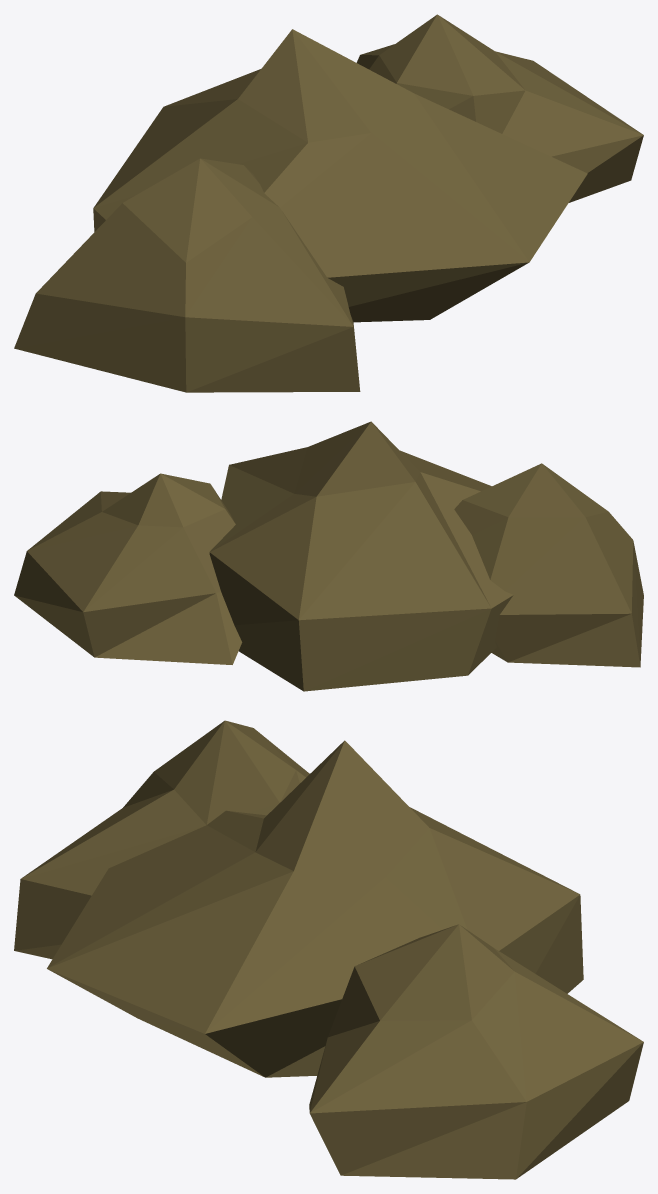
File: bramble_1.obj
3 renders of one model, top to bottom at view 1: azimuth 30°, elevation 25°; view 2: azimuth 150°, elevation 25°; view 3: azimuth 270°, elevation 25°, orthographic. The views are drawn at different scales.
Parts seen in each view (by area): view 1: bramble_1; view 2: bramble_1; view 3: bramble_1.
Boxes of the visible parts, x1=… form: bramble_1: x1=14, y1=14, x2=643, y2=392; bramble_1: x1=14, y1=421, x2=643, y2=691; bramble_1: x1=14, y1=720, x2=643, y2=1179.
Bounding box in the file's own units: 0.8273 × 0.286 × 0.6403.
